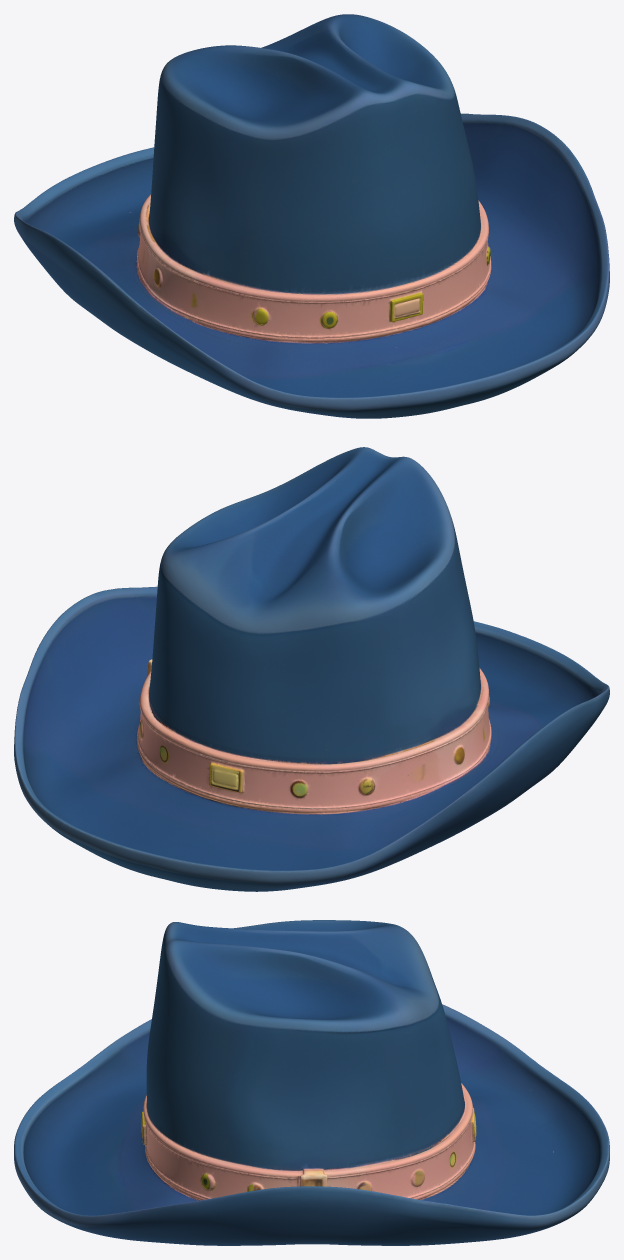
Rendered from meshy_019e1821-98cf-757c-9be0-d38dede82e50.glb.
3 renders of one model, top to bottom at view 1: azimuth 30°, elevation 25°; view 2: azimuth 150°, elevation 25°; view 3: azimuth 270°, elevation 25°, orthographic. The views are drawn at different scales.
Bounding box in the file's own units: 1.65 × 0.8847 × 1.9.
1 material, 1 textured.
